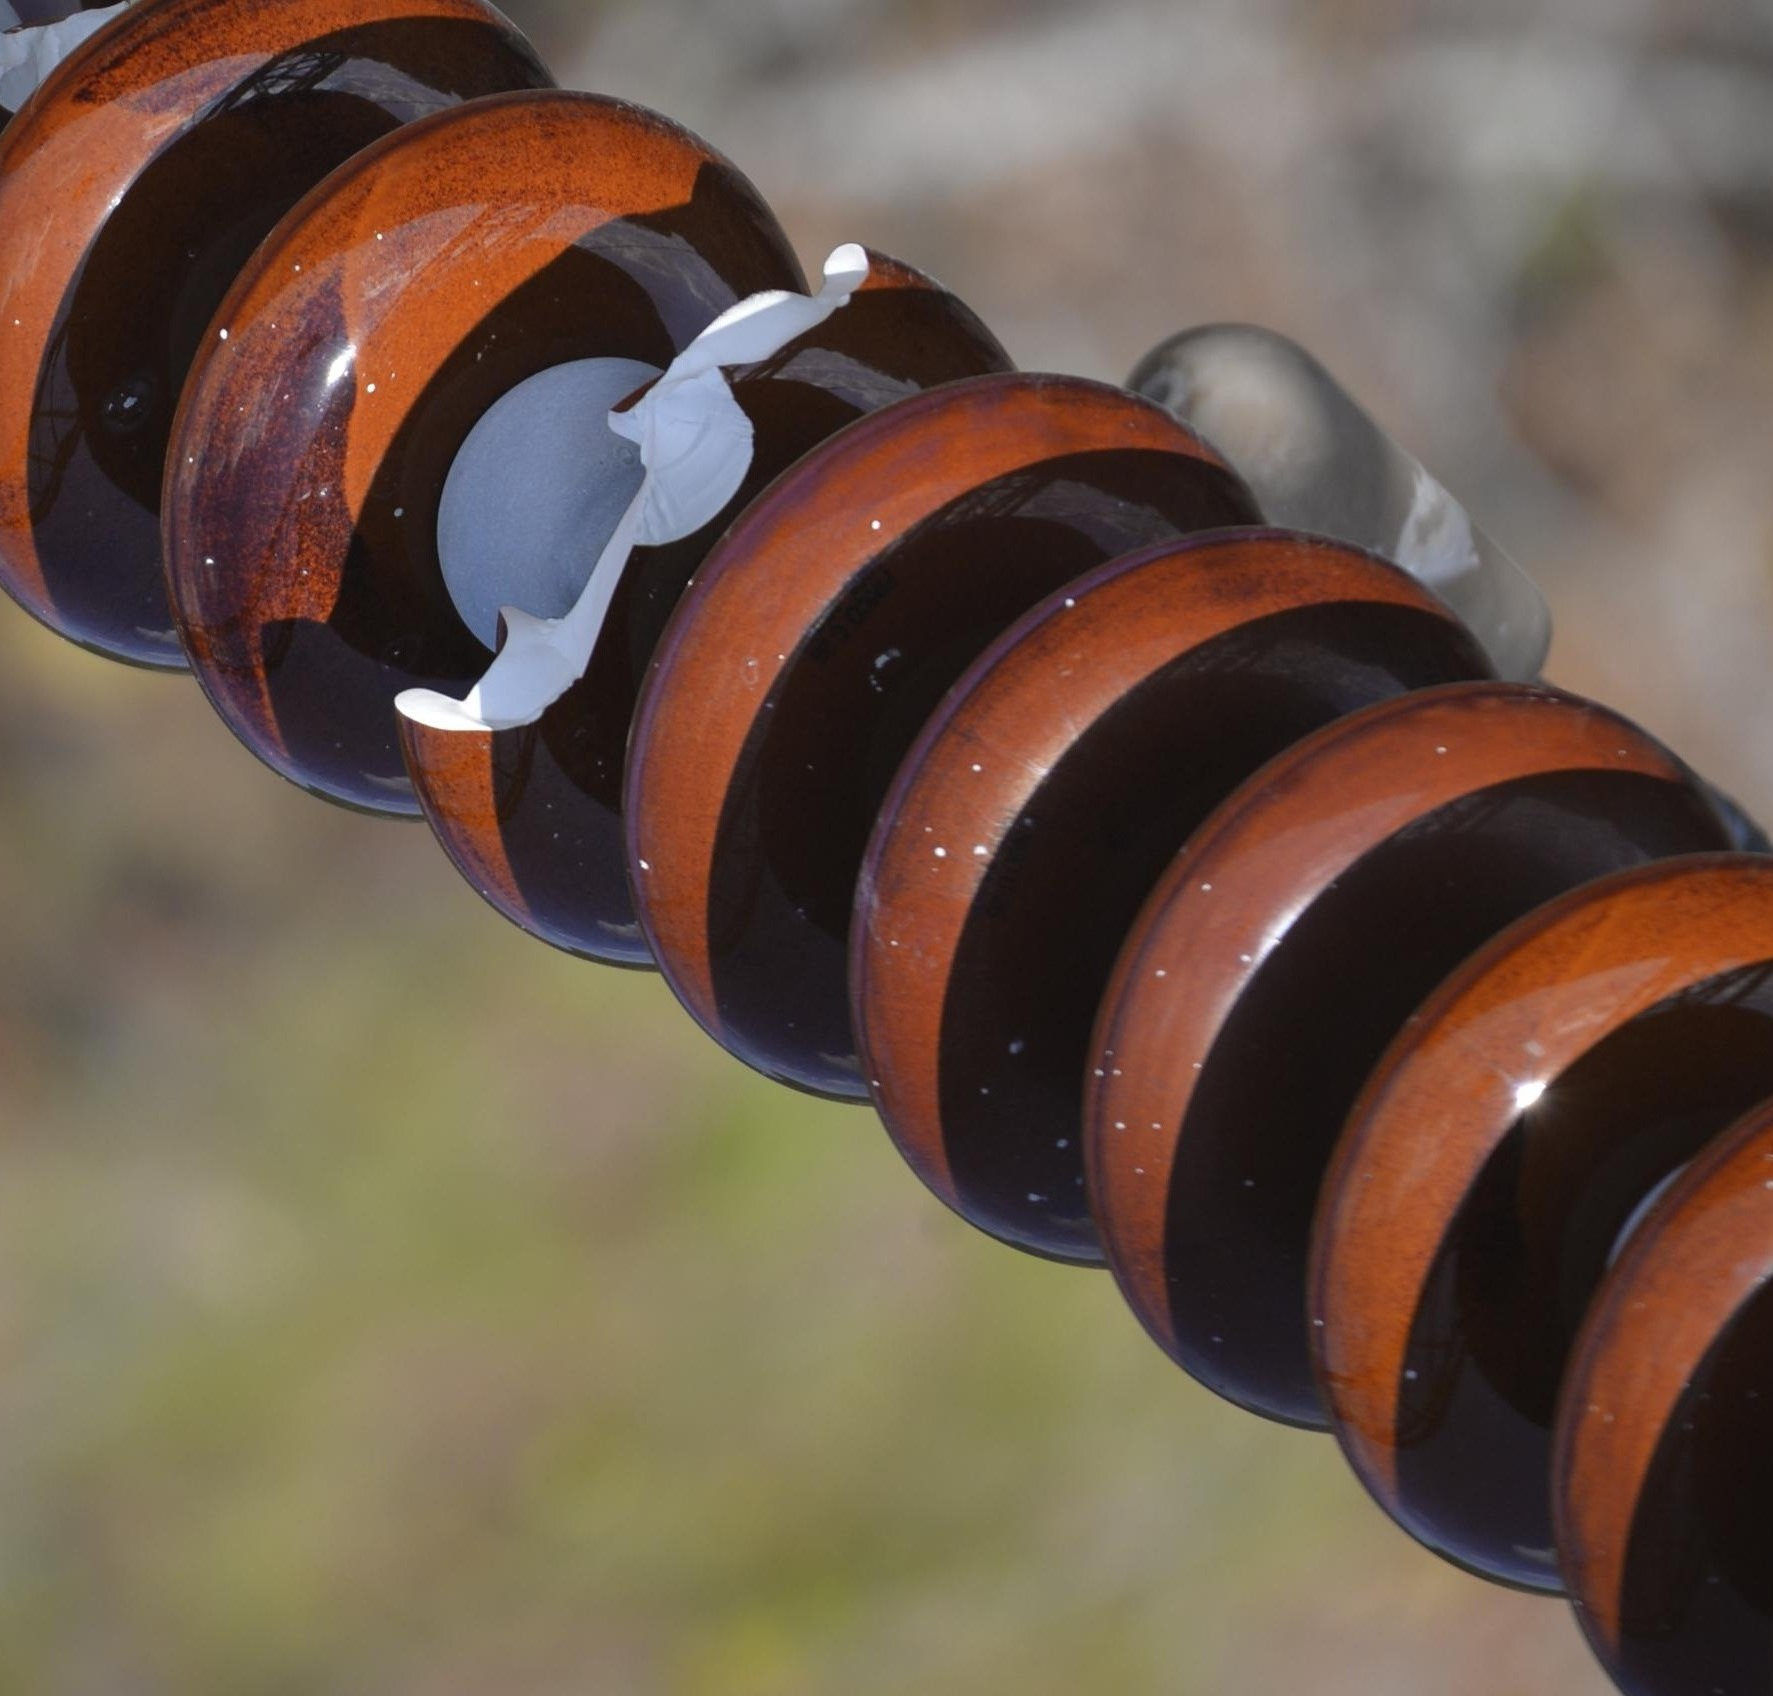insulator breakage: (344, 209, 1026, 958)
